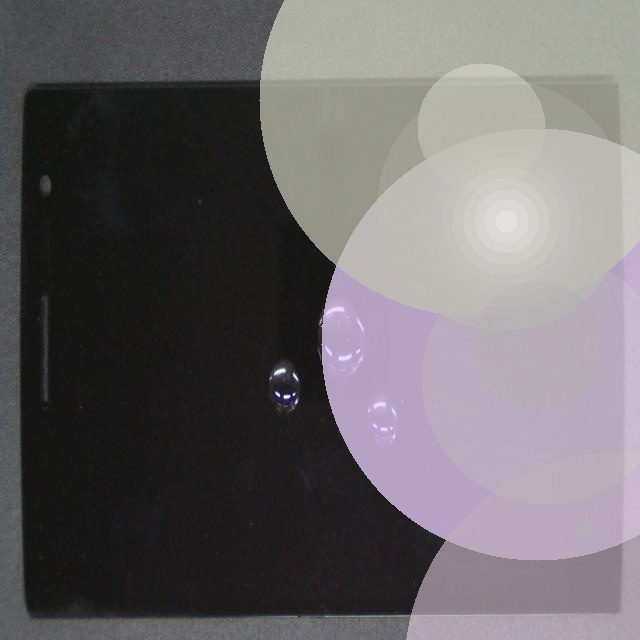oil: (205, 184, 562, 603), (102, 180, 403, 598), (181, 117, 496, 472)
